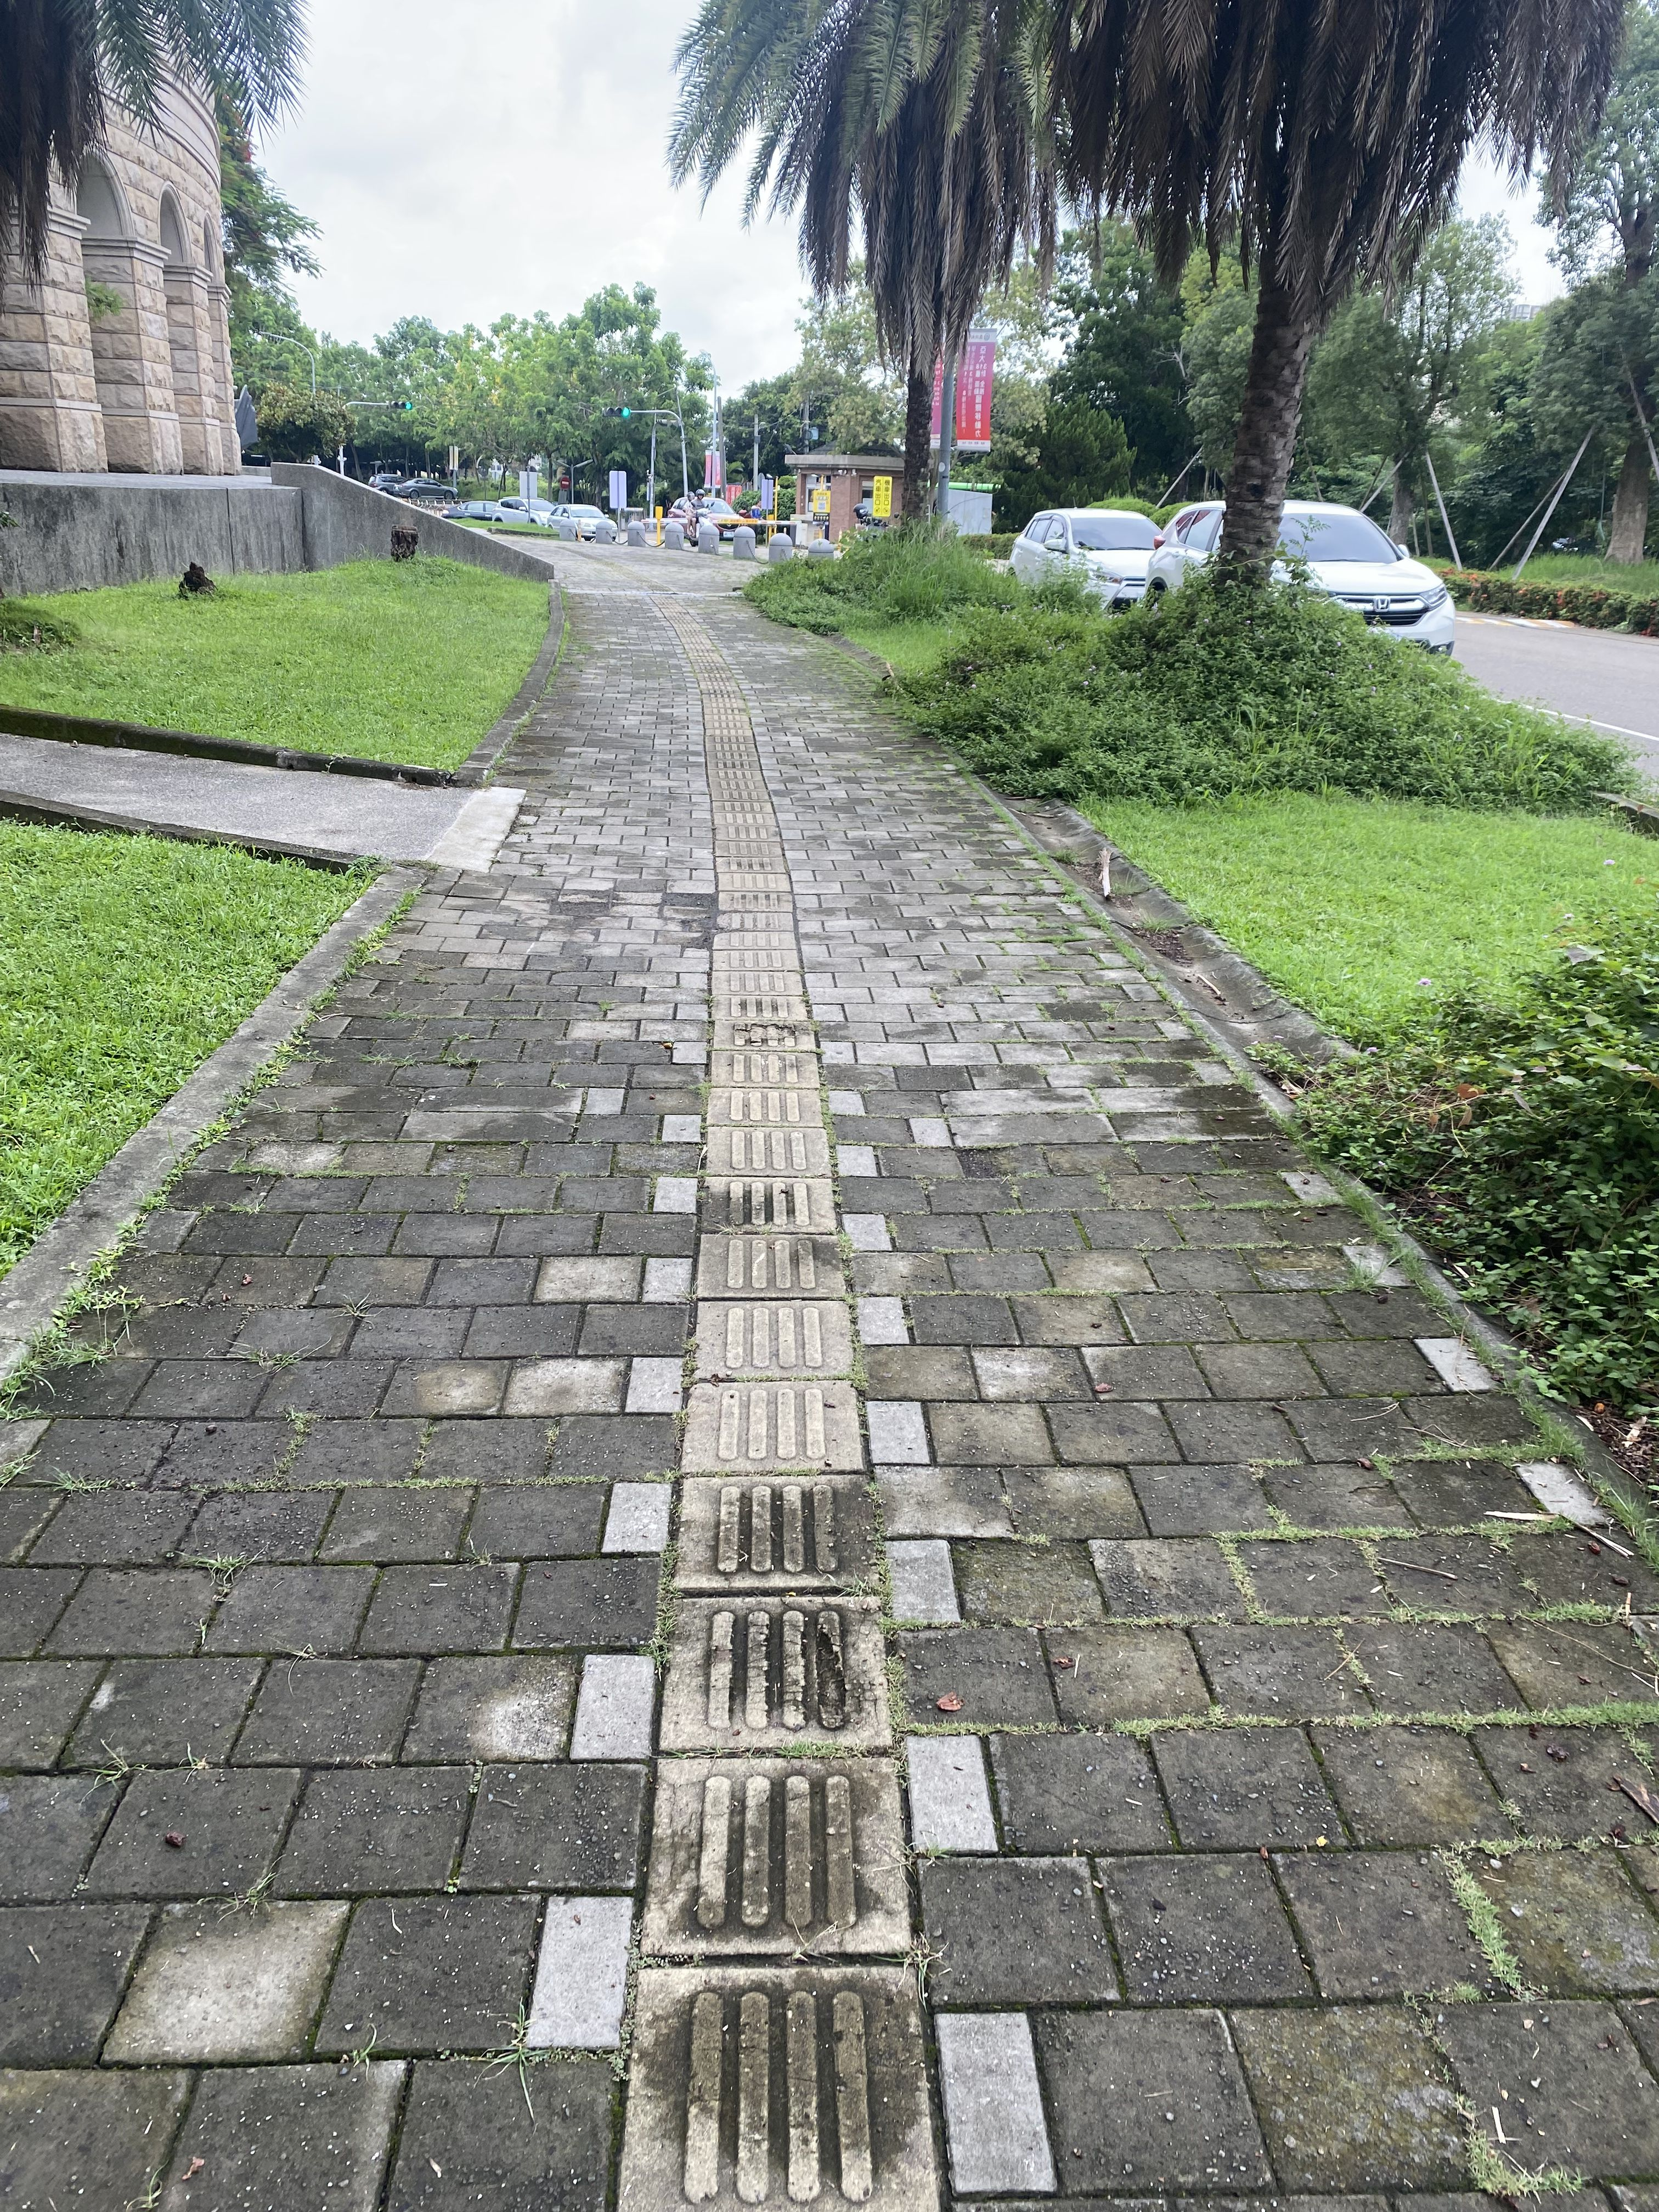0: (5, 751, 1659, 2212)
sidewalk: (530, 524, 1016, 1428)
